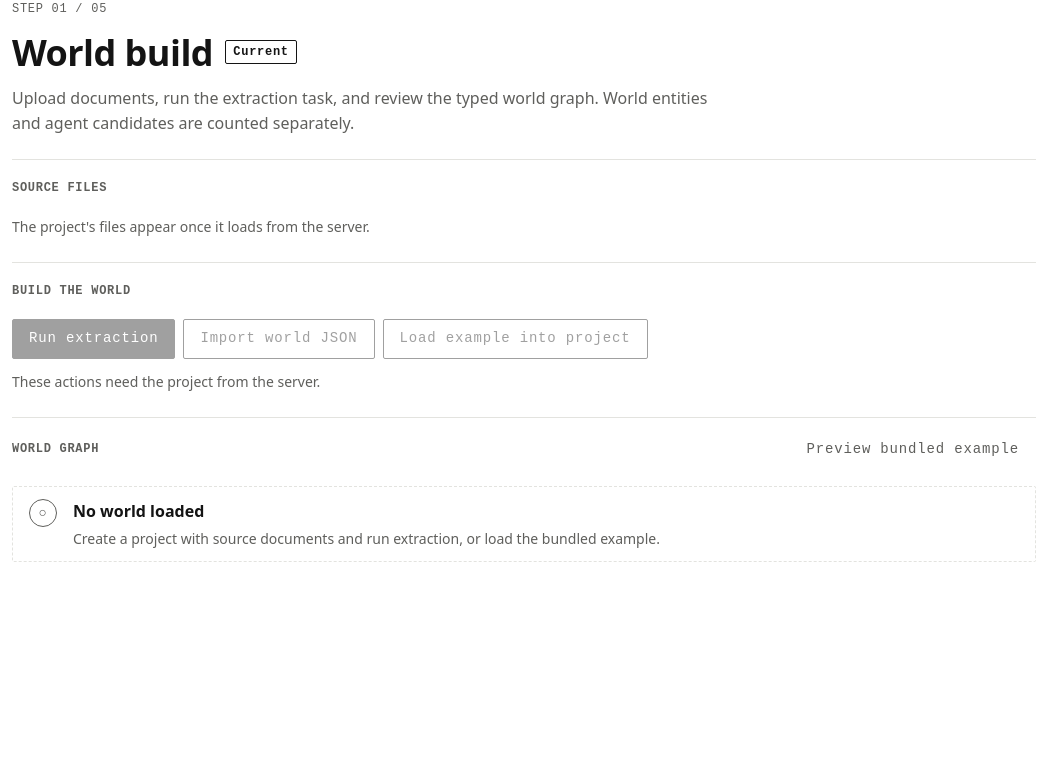
Test case: Step1WorldBuild › previews the bundled example without a server, but that does not complete the step
Click the button with test id "load-example" at (913, 450), box 789,430 -> 1036,470
(page scrolled)
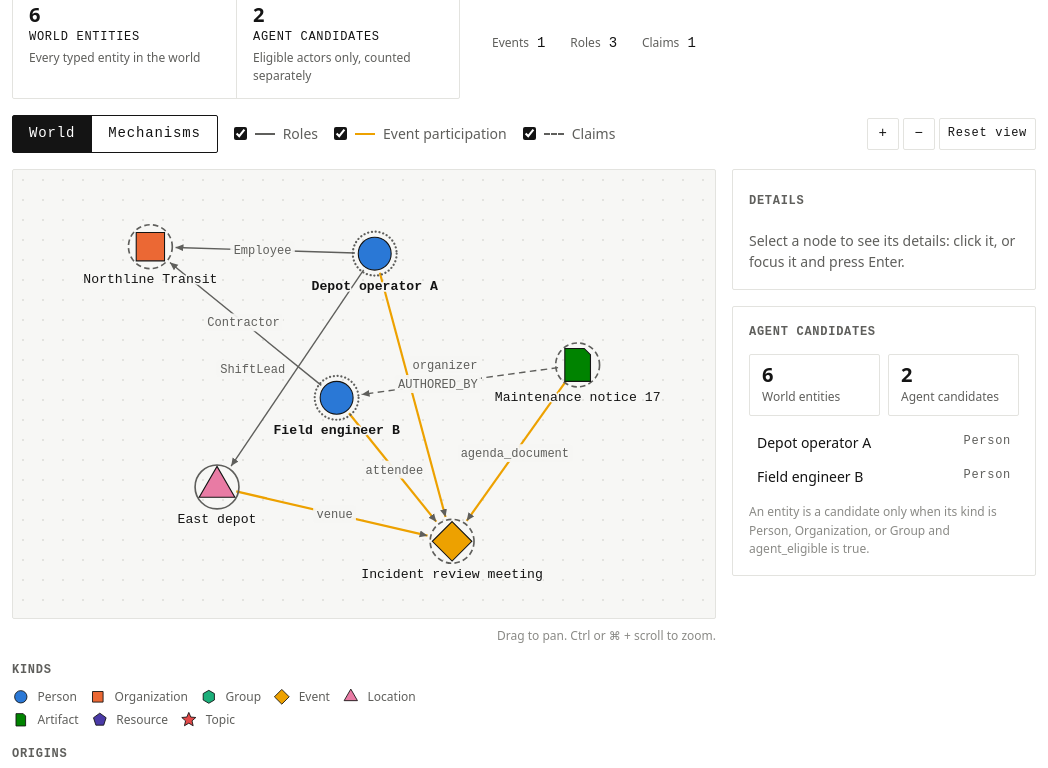
Expected: the element with test id "world-entity-count" shows "6", 762,361 -> 774,388
Expected: the element with test id "agent-candidate-count" shows "2", 901,361 -> 912,388
